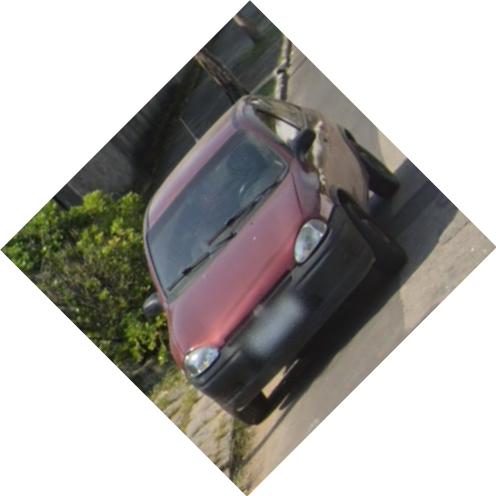car: (141, 93, 409, 427)
